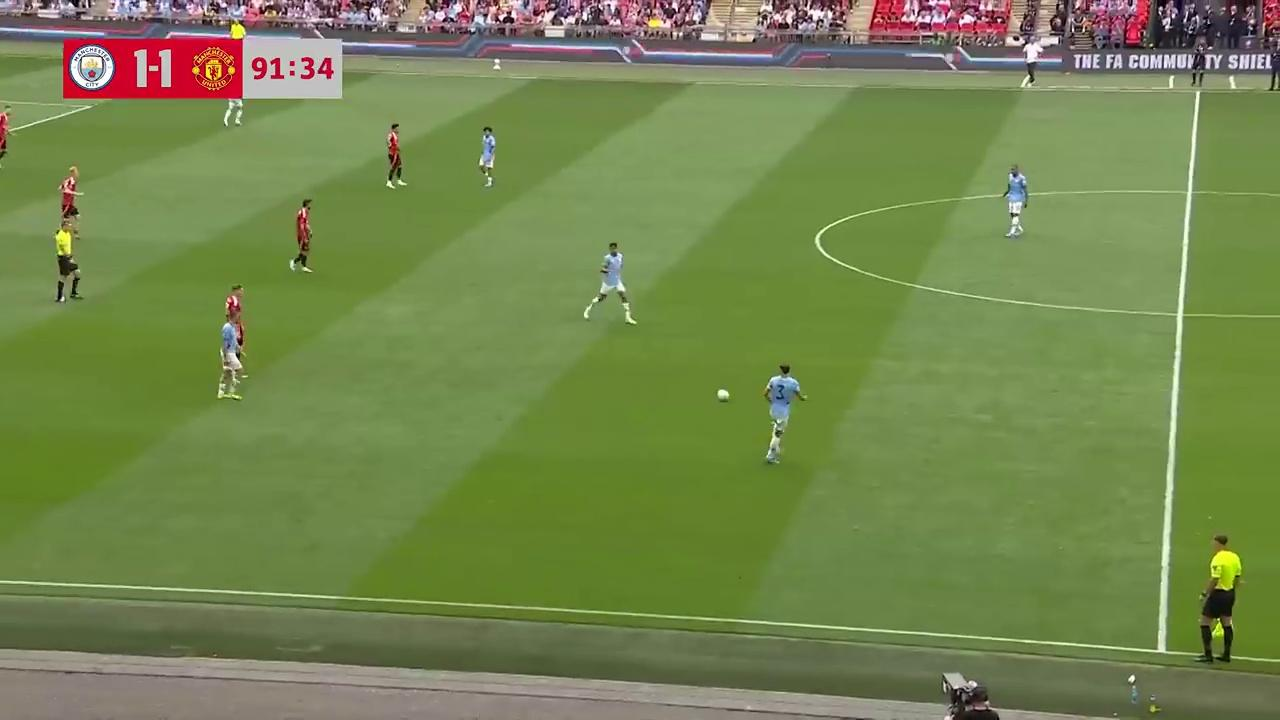ball: (715, 385, 731, 403)
player: (762, 363, 807, 465), (583, 241, 637, 325), (217, 314, 247, 400), (1002, 164, 1028, 238), (290, 199, 313, 273), (58, 164, 81, 234), (224, 284, 246, 357), (385, 122, 407, 188), (224, 66, 244, 127), (477, 125, 496, 187), (0, 105, 13, 171)
referee: (1196, 532, 1244, 665), (53, 216, 82, 304)
